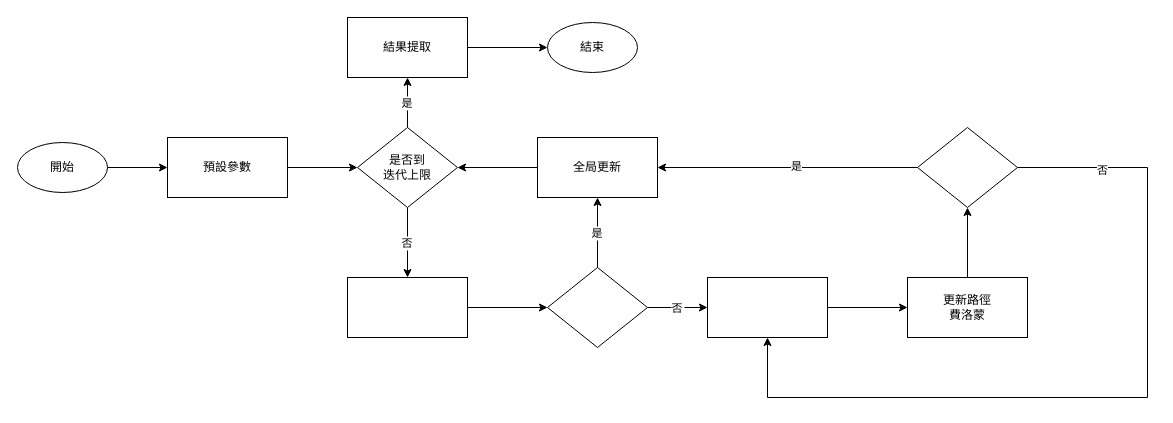
The diagram is 1173 pixels wide and 423 high, and some of its shapes have lost their labels. Each missing label, with the centre of its shape:
"是否 到目的" goes at point (597, 307).
"是否走到 重要點" goes at point (967, 167).
"更新禁止 移動表" goes at point (767, 307).
"產生螞蟻" goes at point (407, 307).
